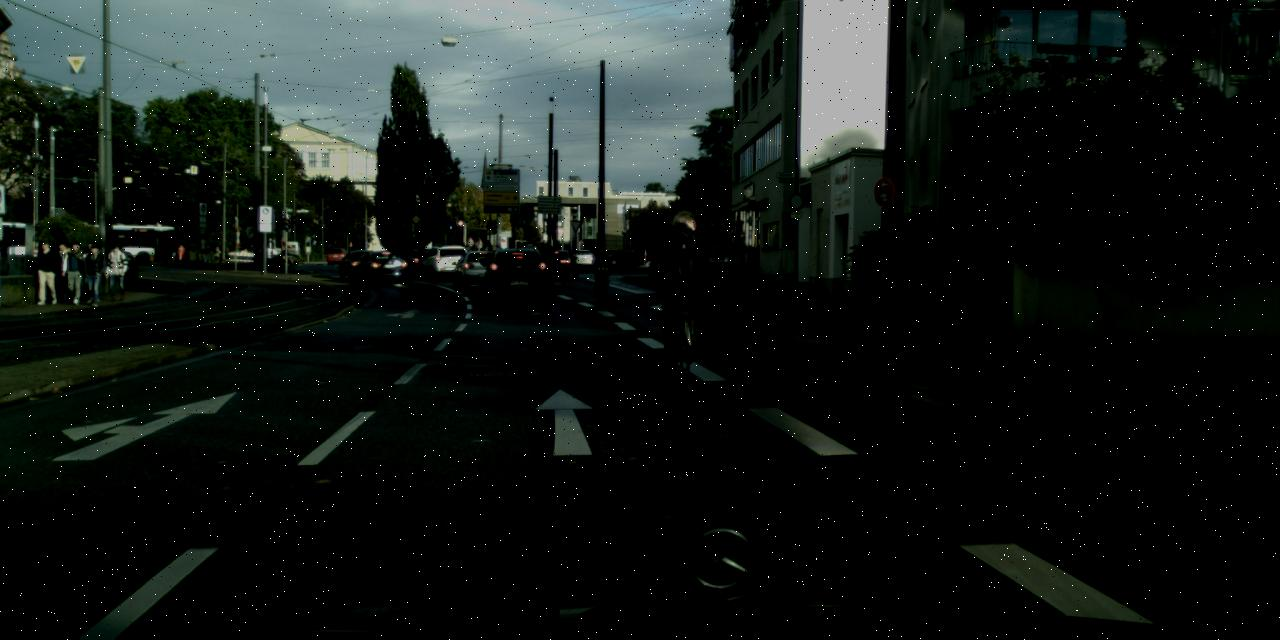ped: (654, 209, 713, 355), (33, 241, 59, 304), (62, 240, 87, 302), (51, 241, 75, 301), (79, 242, 103, 301), (82, 244, 106, 303), (104, 242, 128, 299), (592, 245, 610, 292), (466, 236, 474, 257), (474, 238, 482, 259), (212, 245, 220, 263), (203, 245, 210, 263), (178, 244, 184, 260), (224, 247, 229, 262)
